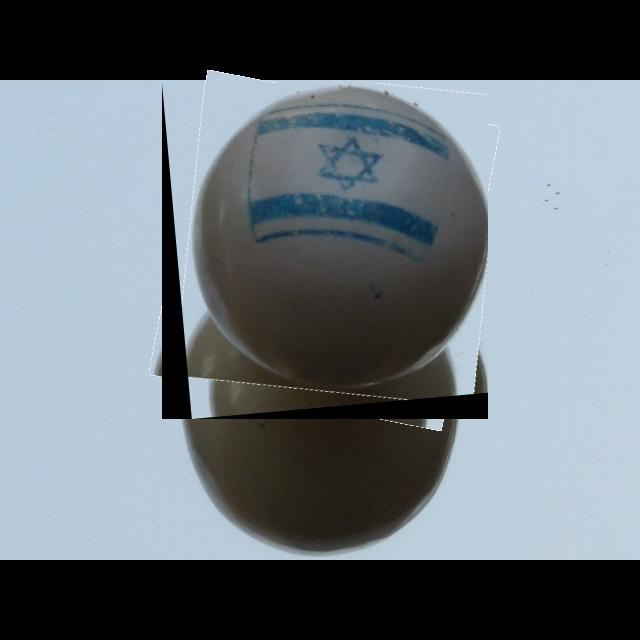Football: (162, 83, 488, 419)
